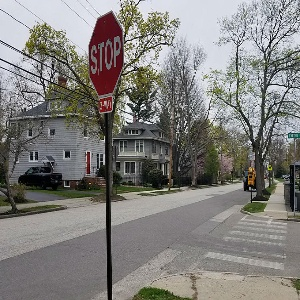stop: (89, 10, 125, 96)
